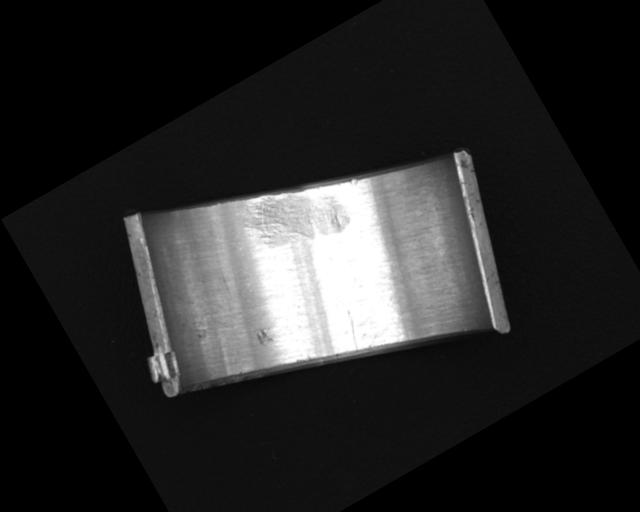bruise: (252, 325, 275, 349), (347, 176, 359, 188)
nick: (335, 308, 371, 353)
scratch: (234, 160, 356, 273)
